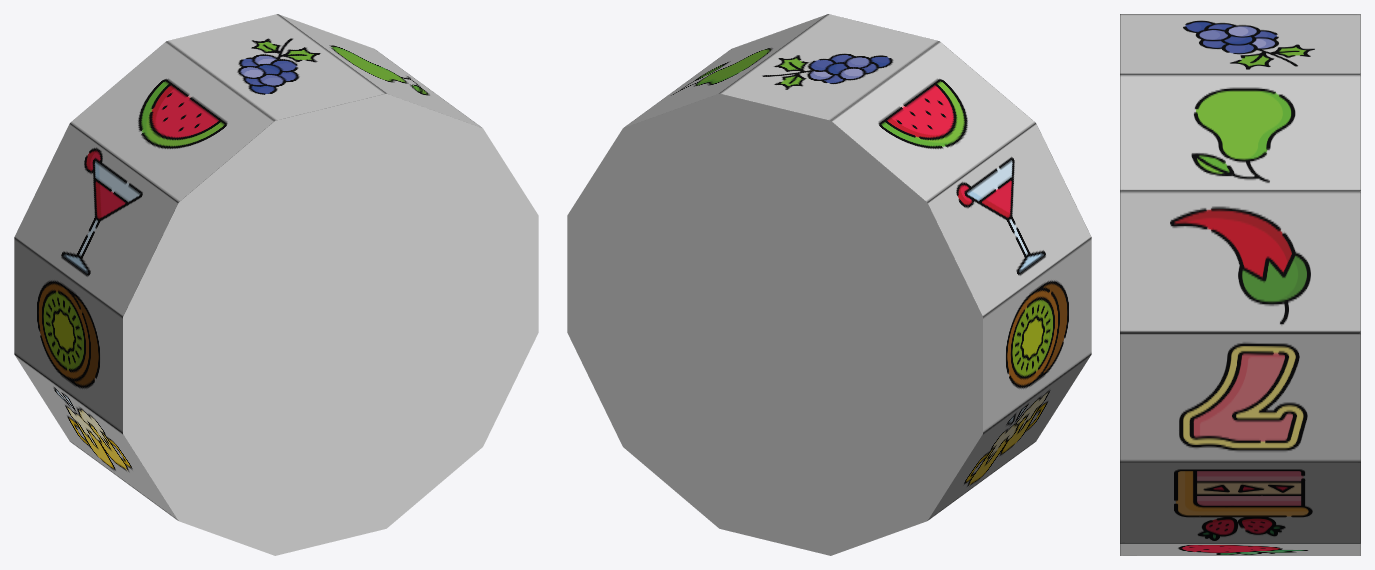
File: Baraban.fbx
3 views of the same model, side by side, from view 1: azimuth 30°, elevation 25°; view 2: azimuth 150°, elevation 25°; view 3: azimuth 270°, elevation 25° (orthographic). The views are drawn at different scales.
Visible parts, largest first — view 1: Цилиндр; view 2: Цилиндр; view 3: Цилиндр.
Part boxes in pixels (x1,y1,x2,y2): Цилиндр: (14,14,538,555); Цилиндр: (567,14,1091,555); Цилиндр: (1120,14,1360,555).
Size of the model in its own units: 773 by 773 by 350.
1 material, 1 textured.
